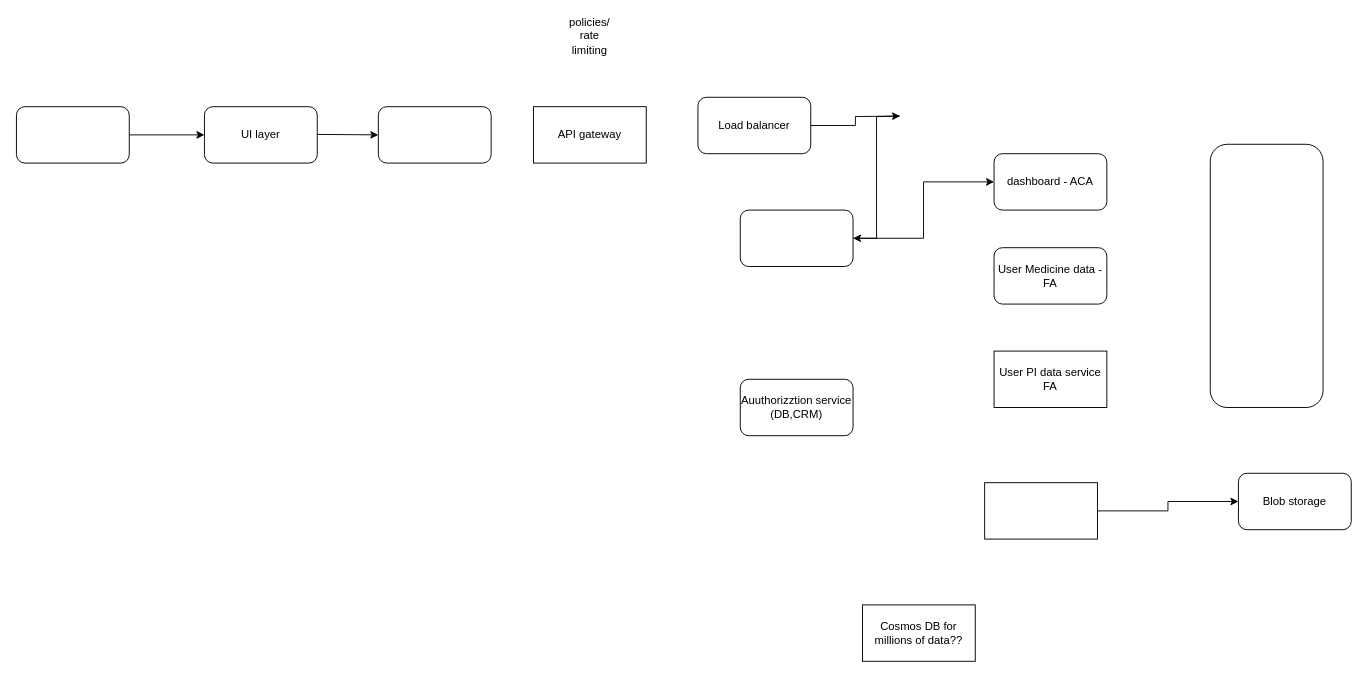
The diagram is 1368 pixels wide and 678 high, and some of its shapes have lost their labels. Here are the shapes that lost their labels. From the top down, the box of each, then its label:
(16, 106, 129, 163): User
(377, 106, 491, 163): Azure Front Door (WAF,
(739, 209, 853, 266): Auth service - MS External Entra ID
(1209, 143, 1323, 407): No sql db
(984, 482, 1097, 539): Users meal data FA
